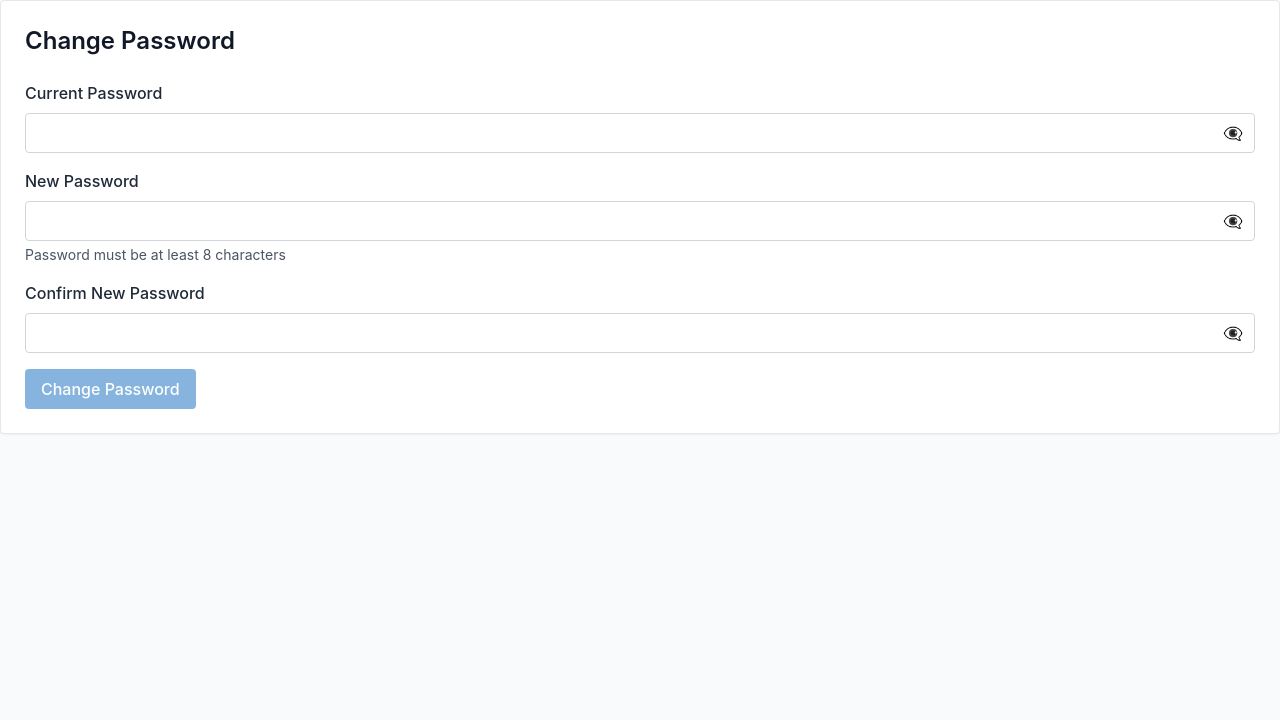
Test: ChangePasswordForm › Form Submission › should show success message and clear form after successful change
Type "OldPass123!" into the password field labelled "Current Password" at (640, 133), box [25, 113, 1255, 153]
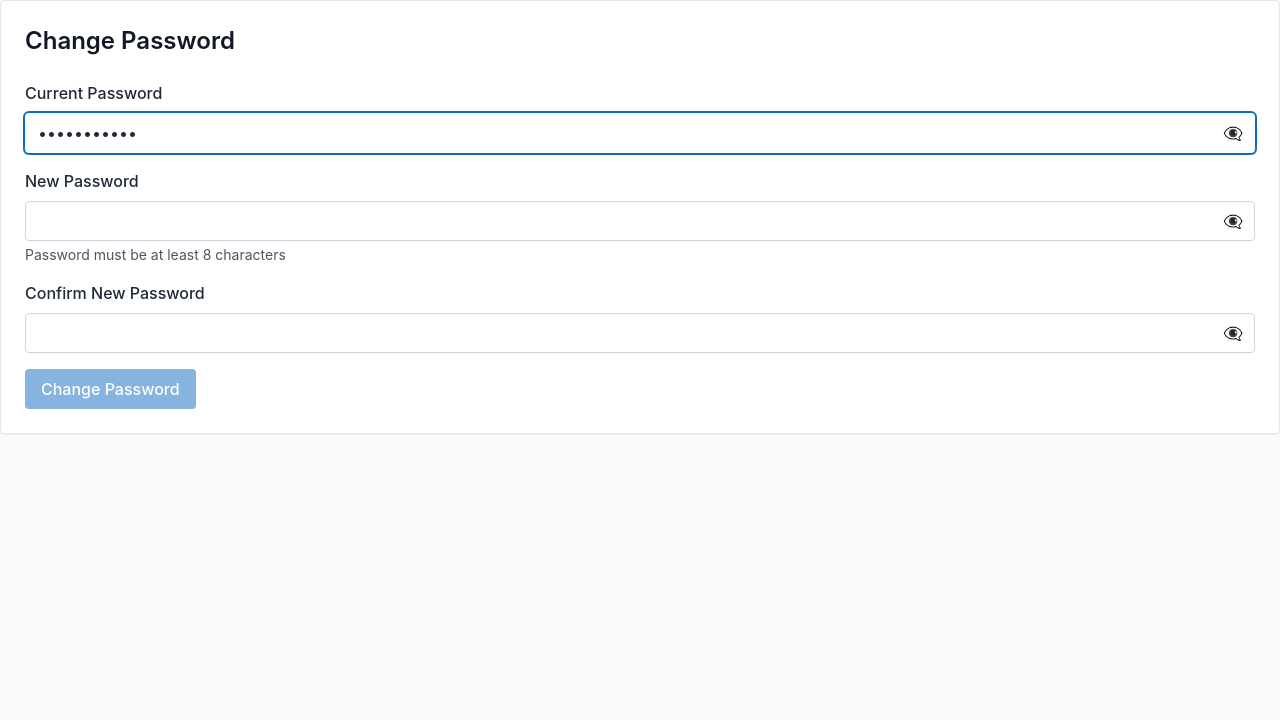
Type "NewPass123!" into the password field labelled "New Password" at (640, 221), box [25, 201, 1255, 241]
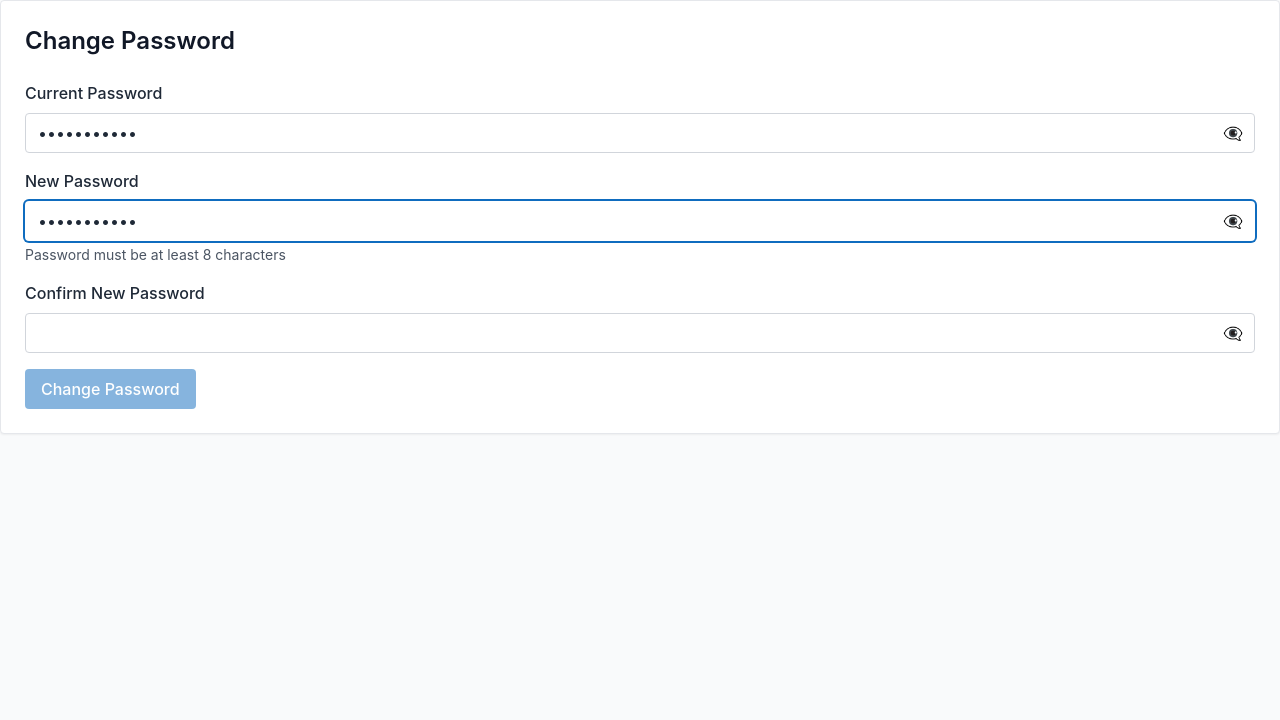
Type "NewPass123!" into the password field labelled "Confirm New Password" at (640, 333), box [25, 313, 1255, 353]
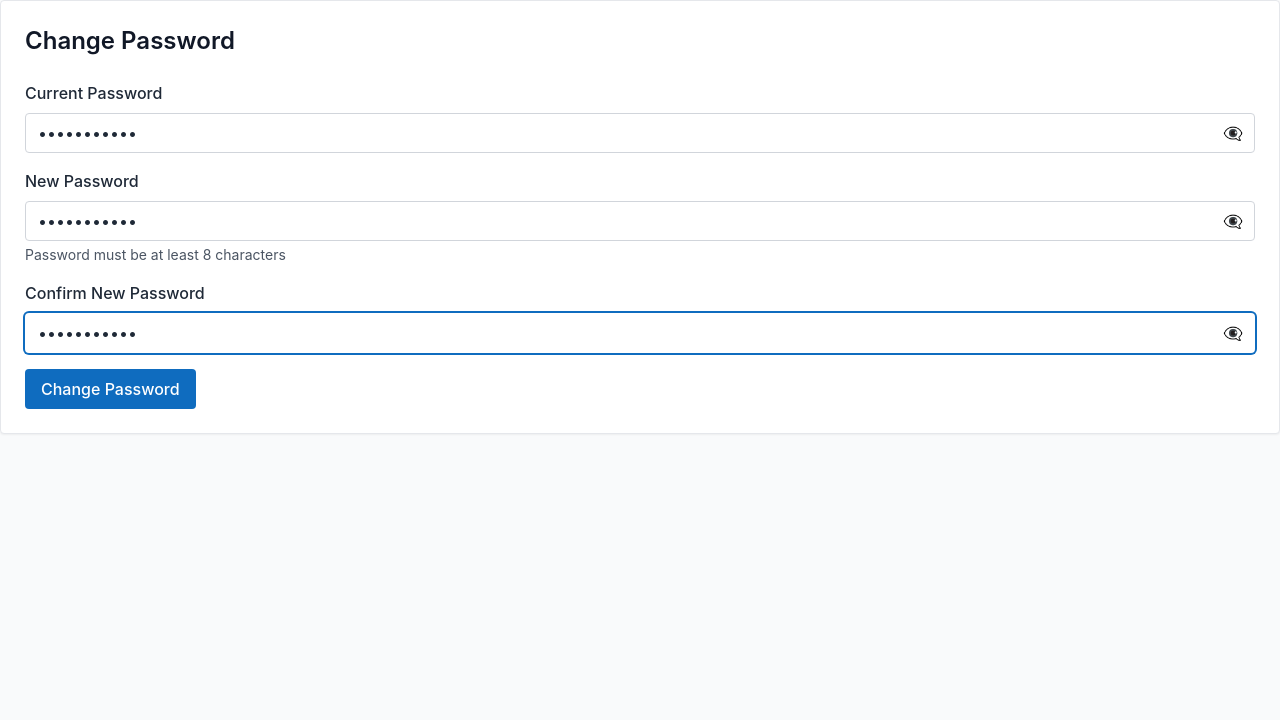
Click the button "Change Password" at (110, 389), box [25, 369, 196, 409]
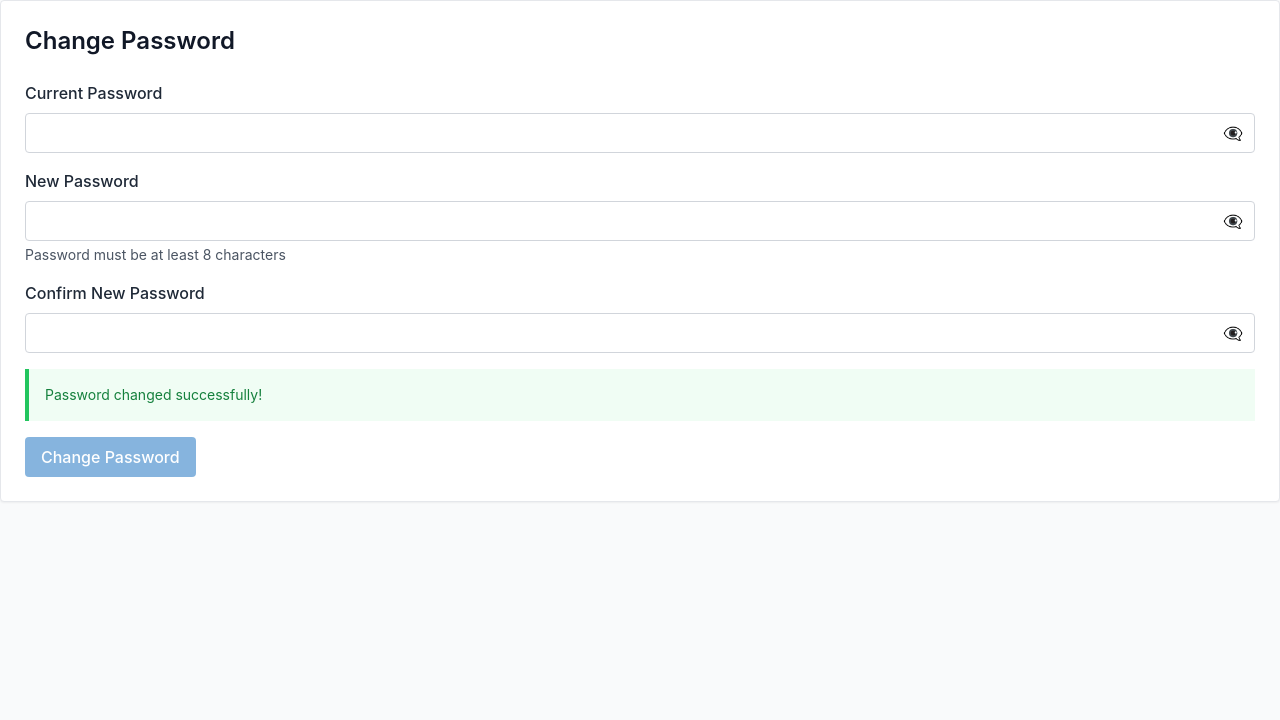
Expected: the text "Password changed successfully!" is shown, [45, 386, 262, 403]
Expected: the password field labelled "Current Password" is empty, [25, 113, 1255, 153]
Expected: the password field labelled "New Password" is empty, [25, 201, 1255, 241]
